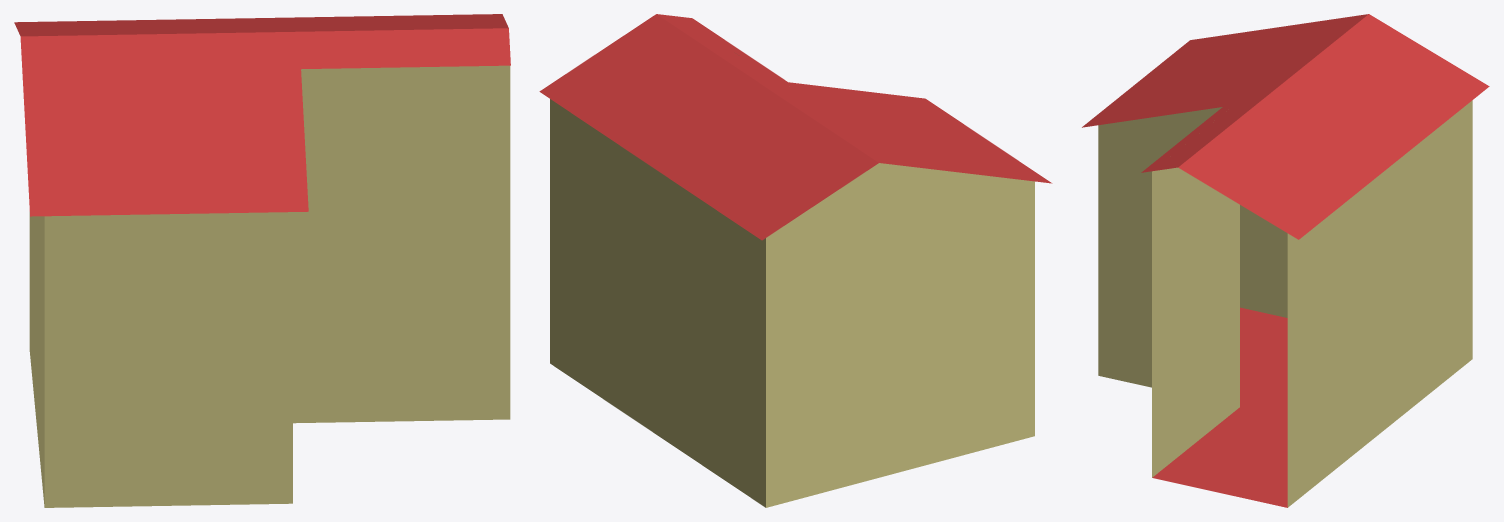
The picture shows the model from 3 angles, left to right: view 1: azimuth 30°, elevation 25°; view 2: azimuth 150°, elevation 25°; view 3: azimuth 270°, elevation 25°; orthographic projection. The views are drawn at different scales.
Size of the model in its own units: 10.3 by 8.08 by 6.9.
